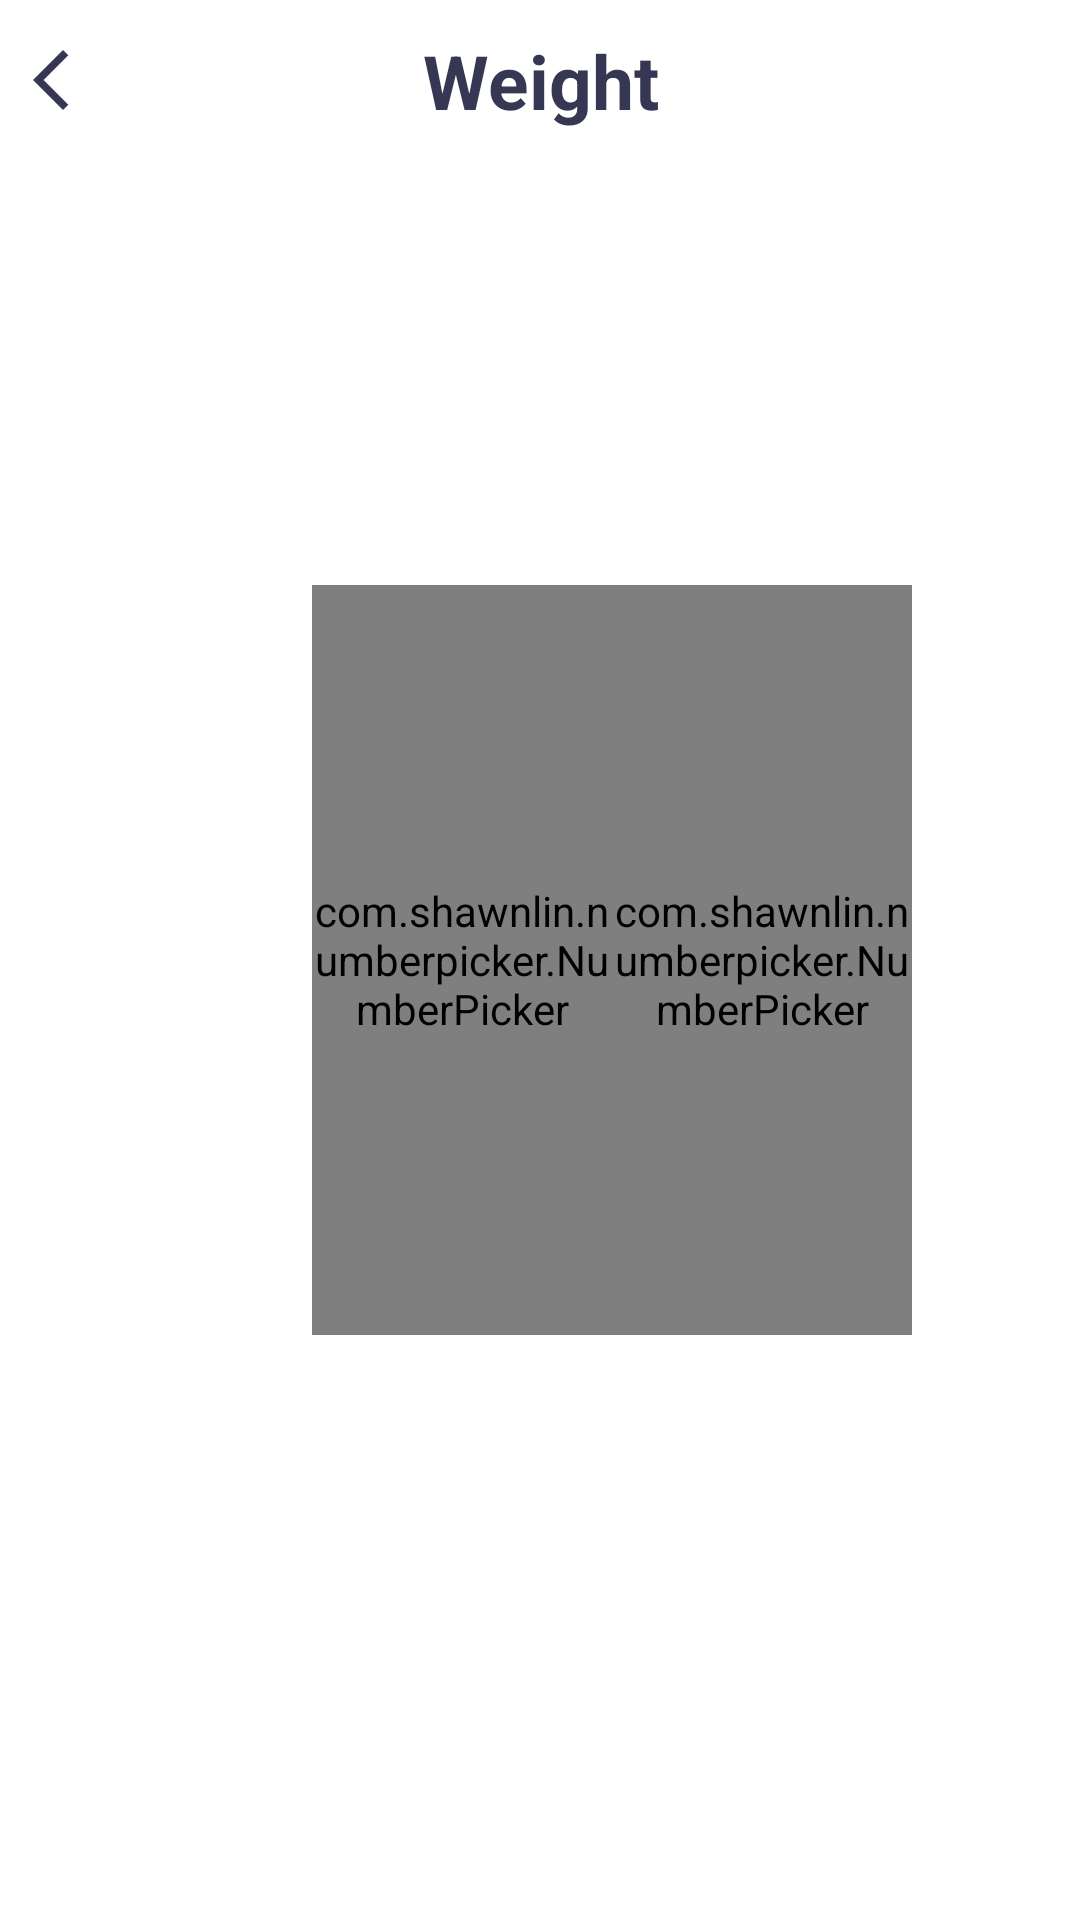

Point at icon controls on the screen. Image size 1080 × 1920, points as (x=x, y=y).
arrow back: (x=50, y=80)
